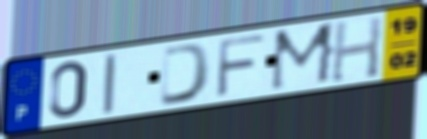0: (48, 60, 90, 121)
D: (157, 41, 215, 108)
F: (213, 33, 268, 100)
H: (328, 14, 385, 85)
I: (100, 51, 119, 117)
M: (268, 20, 339, 94)
